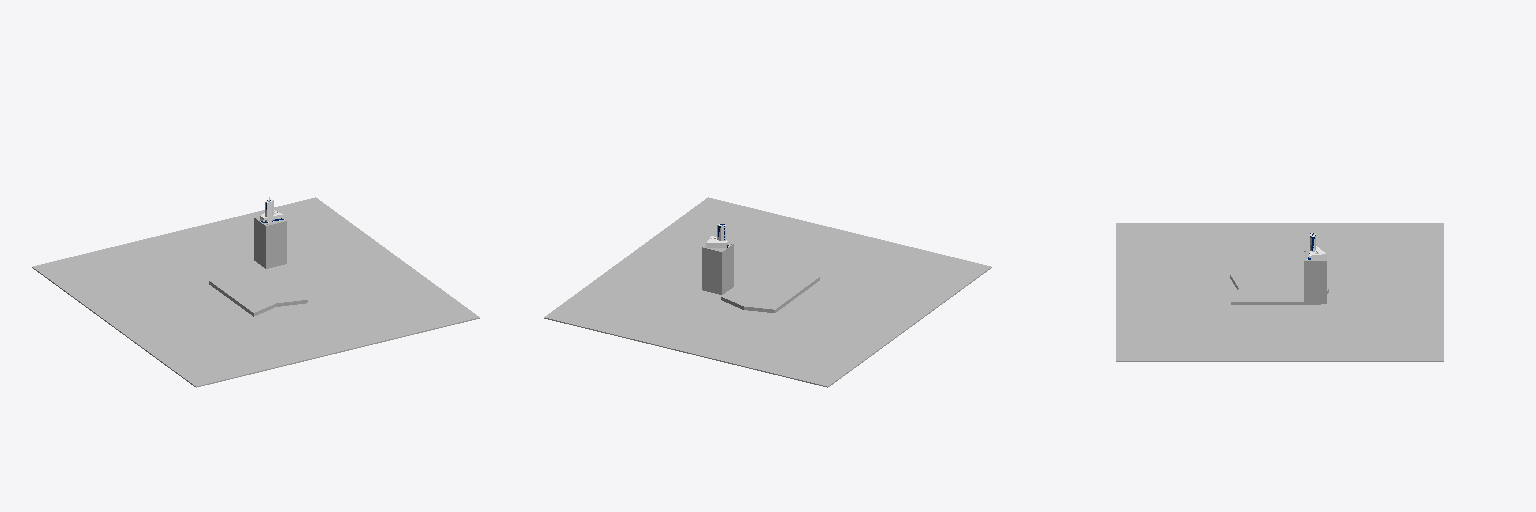
Rendered from prozor.obj.
3 renders of one model, left to right at view 1: azimuth 30°, elevation 25°; view 2: azimuth 150°, elevation 25°; view 3: azimuth 270°, elevation 25°, orthographic.
Parts seen in each view (by area): view 1: Plane, BezierCurve, Beogradjanka; view 2: Plane, BezierCurve, Beogradjanka; view 3: Plane, BezierCurve, Beogradjanka.
Part boxes in pixels (bbox=[...]): Plane: bbox=[32, 197, 479, 387]; BezierCurve: bbox=[209, 267, 307, 316]; Beogradjanka: bbox=[254, 197, 286, 268]; Plane: bbox=[544, 197, 991, 387]; BezierCurve: bbox=[721, 264, 819, 312]; Beogradjanka: bbox=[702, 224, 733, 294]; Plane: bbox=[1116, 223, 1443, 361]; BezierCurve: bbox=[1230, 275, 1328, 304]; Beogradjanka: bbox=[1304, 233, 1326, 303].
Bounding box in the file's own units: 6.91 × 1.84 × 6.91.